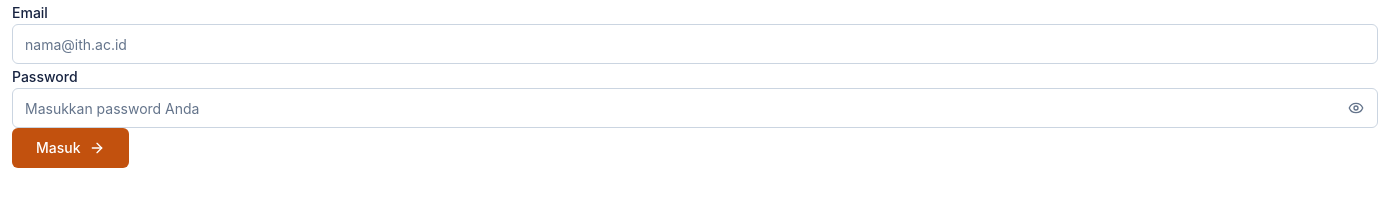
Test: pengalaman formulir login pengelola › tombol tampilkan password tidak mengirim formulir dan galat terhubung ke isian
Click the button named "Tampilkan password" at (1356, 108), box [1334,88,1378,128]
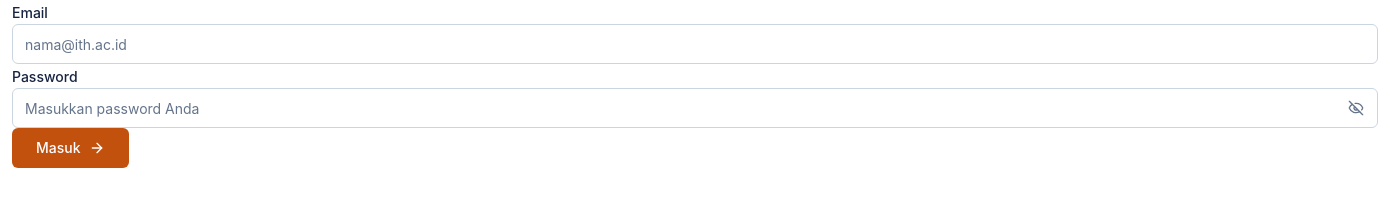
Click the button "Masuk" at (70, 148), box [12,128,128,168]
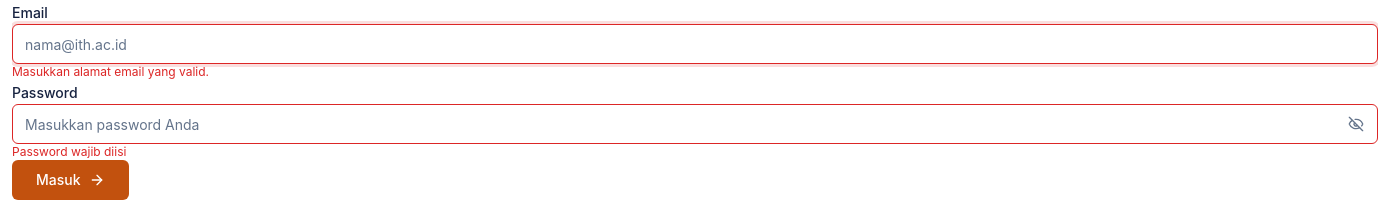
Result: the text "Masukkan alamat email yang valid." is shown at [12,64,209,79]
